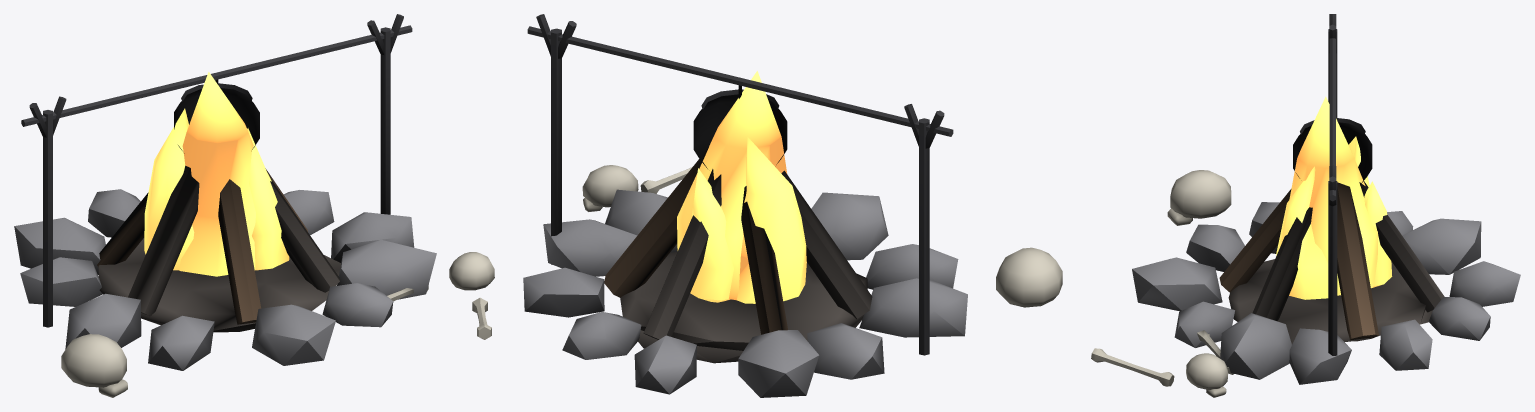
File: place_campfire.glb
3 renders of one model, left to right at view 1: azimuth 30°, elevation 25°; view 2: azimuth 150°, elevation 25°; view 3: azimuth 270°, elevation 25°, orthographic. The views are drawn at different scales.
Parts seen in each view (by area): view 1: place_campfire; view 2: place_campfire; view 3: place_campfire.
Boxes of the visible parts, bbox=[...] form: place_campfire: bbox=[14, 14, 494, 397]; place_campfire: bbox=[523, 14, 1062, 397]; place_campfire: bbox=[1091, 14, 1520, 397].
Size of the model in its own units: 1.73 by 0.9092 by 1.63.
